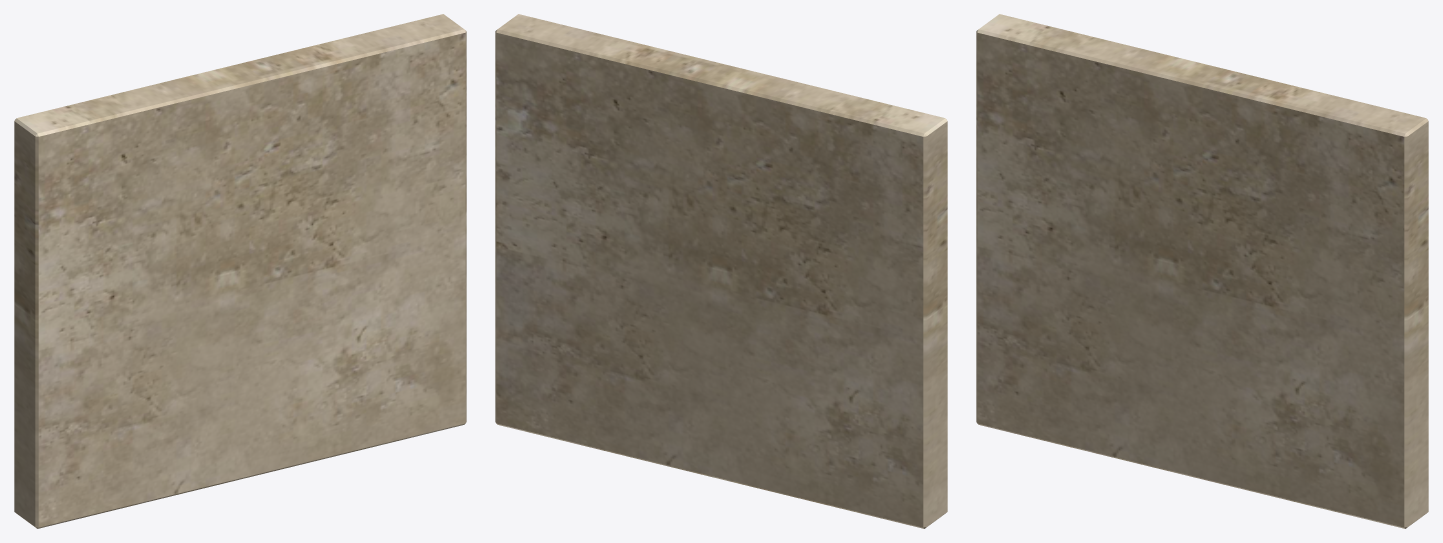
The model's file is thin_wall_big.FBX.
The picture shows the model from 3 angles, left to right: view 1: azimuth 30°, elevation 25°; view 2: azimuth 150°, elevation 25°; view 3: azimuth 330°, elevation 25°; orthographic projection.
Visible parts, largest first — view 1: Box306; view 2: Box306; view 3: Box306.
Part boxes in pixels (x1,y1,x2,y2): Box306: (14,14,466,528); Box306: (495,14,947,528); Box306: (976,14,1428,528).
Size of the model in its own units: 193 by 169 by 18.25.
